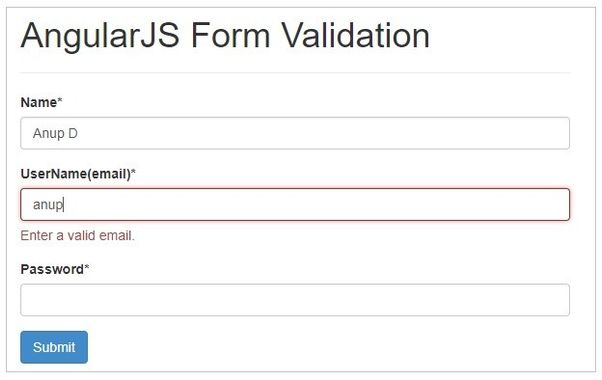error_field: (17, 185, 572, 225)
error_message: (19, 228, 133, 241)
